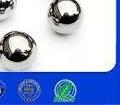ironball: (0, 30, 40, 70), (48, 0, 87, 32), (0, 0, 20, 21)
